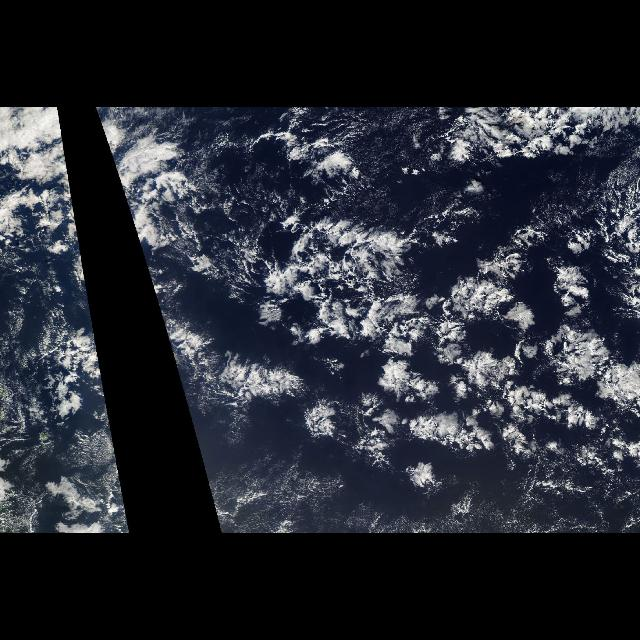Fish: (150, 280, 320, 424), (76, 280, 110, 424)
Flower: (210, 113, 638, 520)
Sugar: (203, 462, 355, 526)
